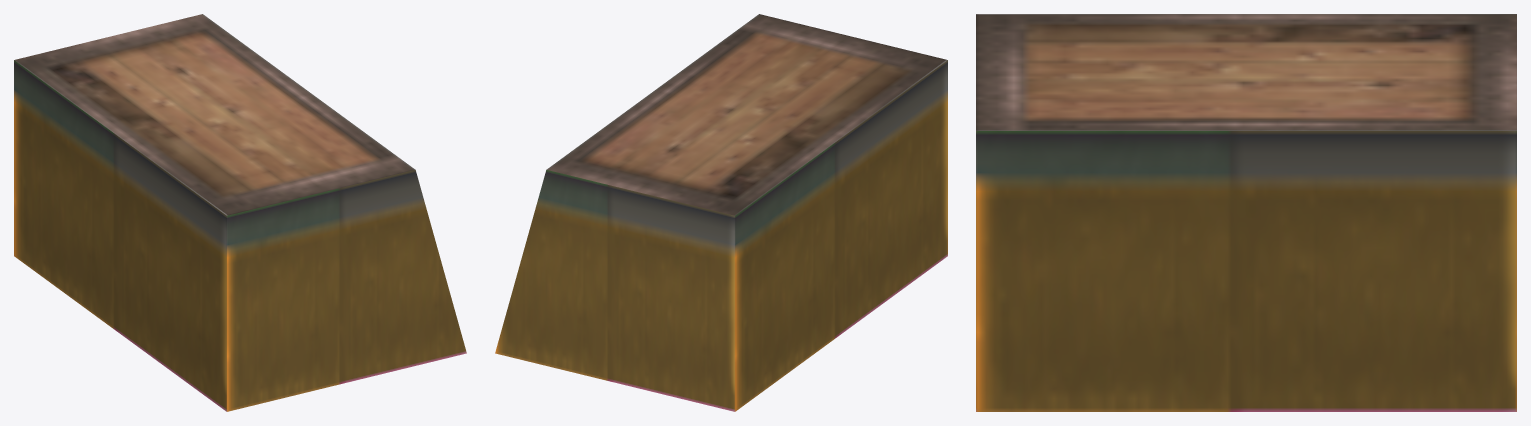
3 views of the same model, side by side, from view 1: azimuth 30°, elevation 25°; view 2: azimuth 150°, elevation 25°; view 3: azimuth 270°, elevation 25° (orthographic). The views are drawn at different scales.
Visible parts, largest first — view 1: Box02; view 2: Box02; view 3: Box02.
Boxes of the visible parts, x1,y1,x2,y2 form: Box02: [14, 14, 466, 411]; Box02: [495, 14, 947, 411]; Box02: [976, 14, 1516, 411].
Bounding box in the file's own units: 144 × 113 × 222.
Materials: 2 (2 with a texture image).
